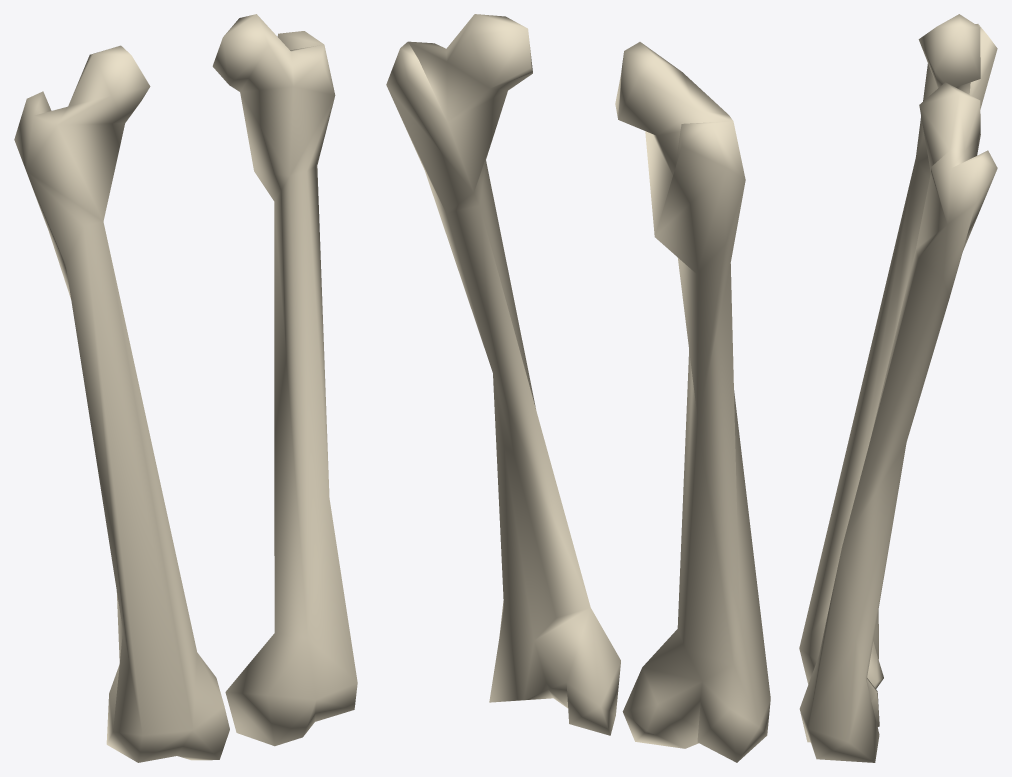
The model's file is kulou.FBX.
3 renders of one model, left to right at view 1: azimuth 30°, elevation 25°; view 2: azimuth 150°, elevation 25°; view 3: azimuth 270°, elevation 25°, orthographic. The views are drawn at different scales.
Visible parts, largest first — view 1: RightThigh, Left Thigh; view 2: RightThigh, Left Thigh; view 3: Left Thigh, RightThigh.
Part boxes in pixels (x1,y1,x2,y2): RightThigh: [14, 45, 229, 762]; Left Thigh: [212, 14, 357, 746]; RightThigh: [615, 42, 770, 762]; Left Thigh: [386, 14, 620, 735]; Left Thigh: [799, 82, 997, 762]; RightThigh: [799, 14, 997, 688].
Bounding box in the file's own units: 0.2364 × 0.4909 × 0.1311.
